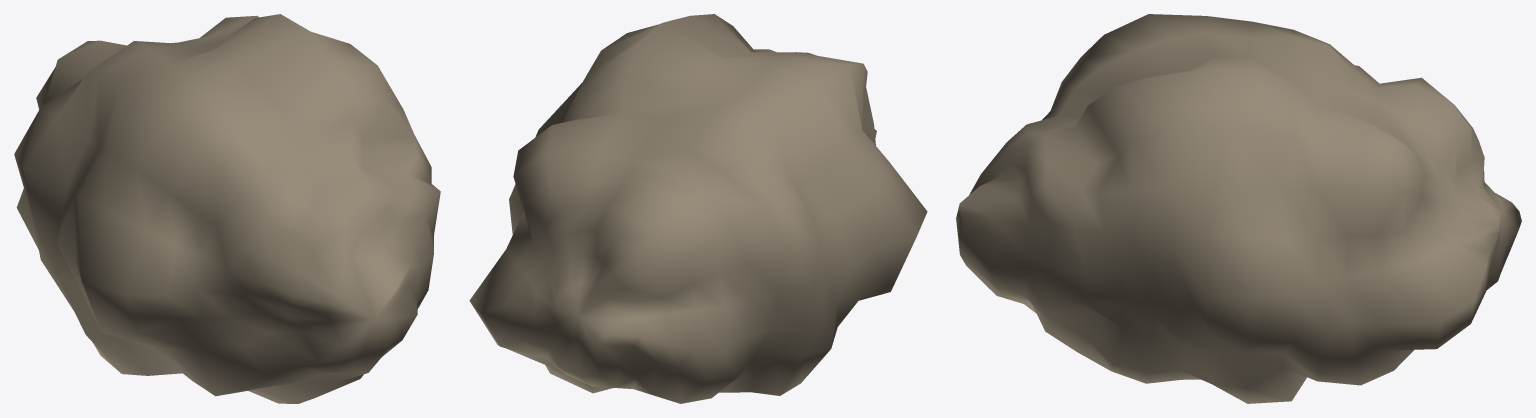
Rendered from Asteroid Final.fbx.
The picture shows the model from 3 angles, left to right: view 1: azimuth 30°, elevation 25°; view 2: azimuth 150°, elevation 25°; view 3: azimuth 270°, elevation 25°; orthographic projection. The views are drawn at different scales.
Visible parts, largest first — view 1: pSphere1; view 2: pSphere1; view 3: pSphere1.
Part boxes in pixels (x1,y1,x2,y2): pSphere1: (14,14,440,403); pSphere1: (469,14,927,403); pSphere1: (956,14,1521,403).
Size of the model in its own units: 1.67 by 1.52 by 2.31.
